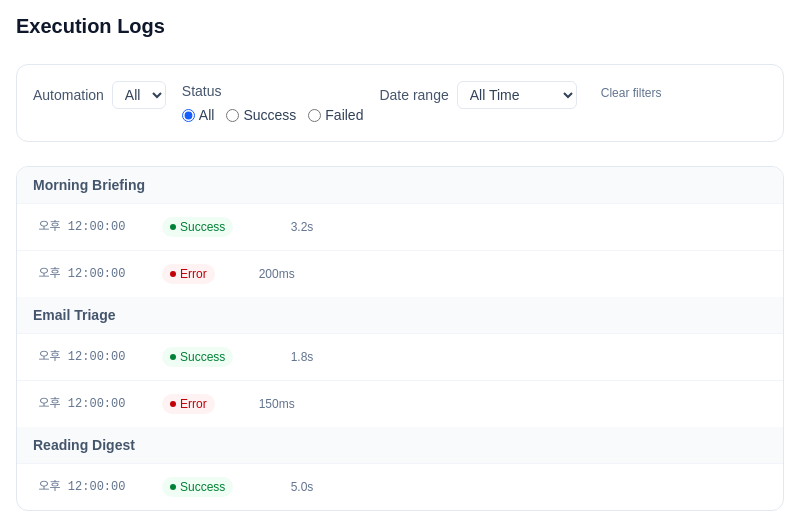
Test: Filter combinations: automation + status › automation='Morning Briefing' + status='error' → shows only log-2 — RED: no filter UI
The image size is (801, 528).
Expected: the text "Morning Briefing" is shown, [17,167,783,204]
Select "Morning Briefing" in the dropdown labelled "Automation": (139, 95) [112,81,166,109]
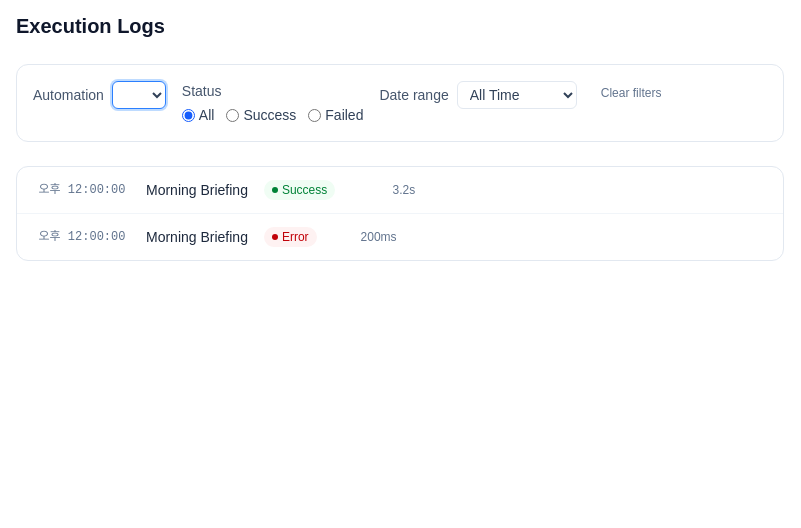
Click the radio button labelled "Failed": (315, 115) [308,108,321,122]
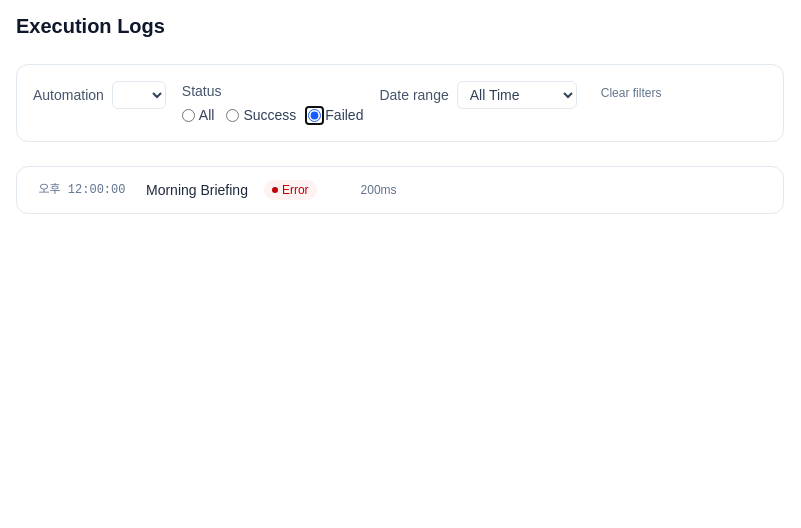
Expected: the text "Morning Briefing" is shown once, [146,180,248,200]
